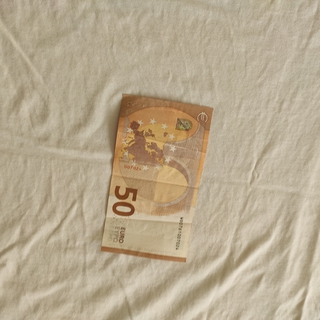50EUROBack: (99, 91, 214, 263)
